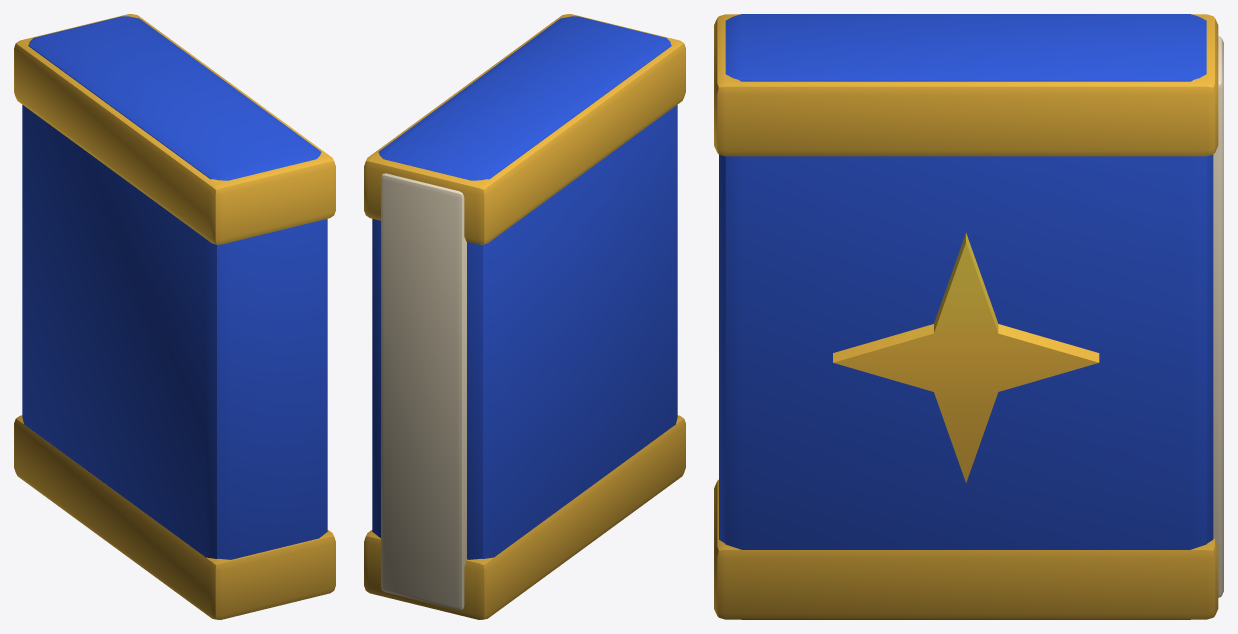
Rendered from Prop_ArcaneTome.fbx.
The picture shows the model from 3 angles, left to right: view 1: azimuth 30°, elevation 25°; view 2: azimuth 150°, elevation 25°; view 3: azimuth 270°, elevation 25°; orthographic projection. The views are drawn at different scales.
Parts seen in each view (by area): view 1: ArcaneTome; view 2: ArcaneTome; view 3: ArcaneTome.
Part boxes in pixels (x1=…): ArcaneTome: x1=14, y1=14, x2=335, y2=619; ArcaneTome: x1=364, y1=14, x2=685, y2=619; ArcaneTome: x1=714, y1=14, x2=1223, y2=619.
Bounding box in the file's own units: 0.0519 × 0.16 × 0.1341.
